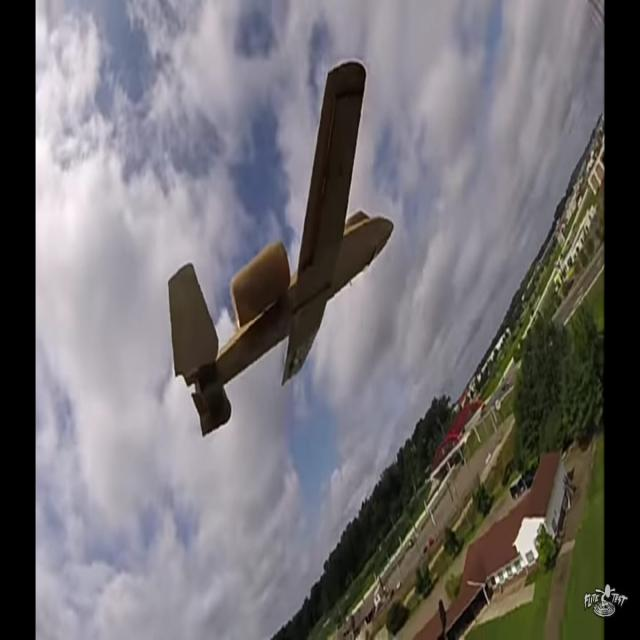iha: (165, 58, 396, 440)
